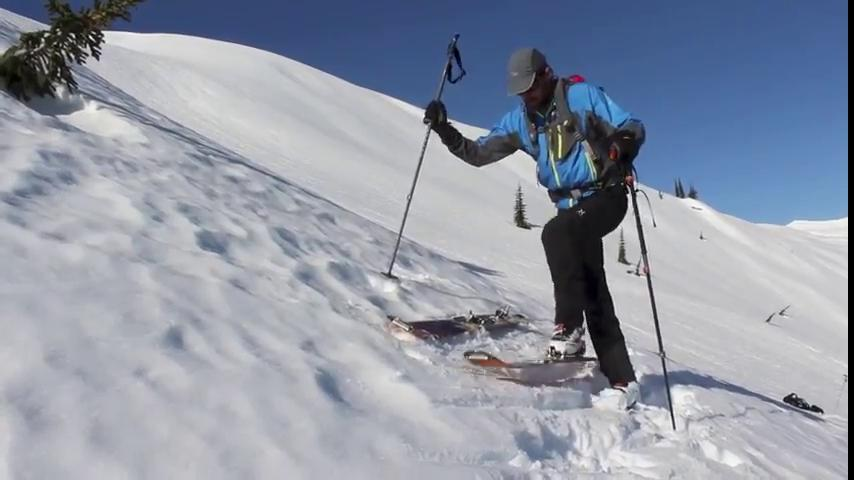victim: (422, 44, 650, 415)
